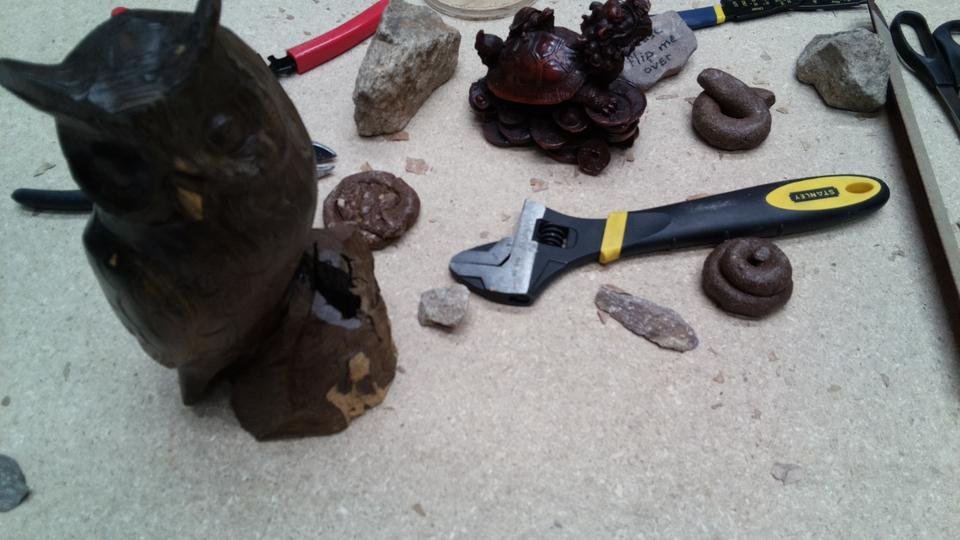poop: (699, 231, 795, 322), (320, 169, 423, 253), (689, 66, 777, 153)
